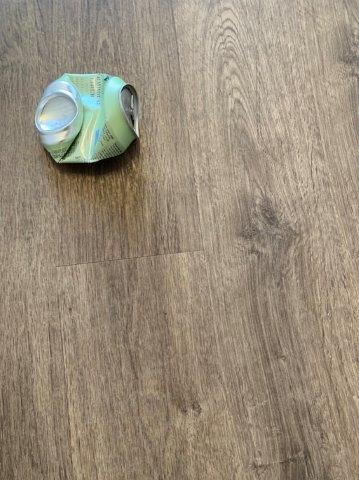kaleng: (36, 74, 138, 163)
